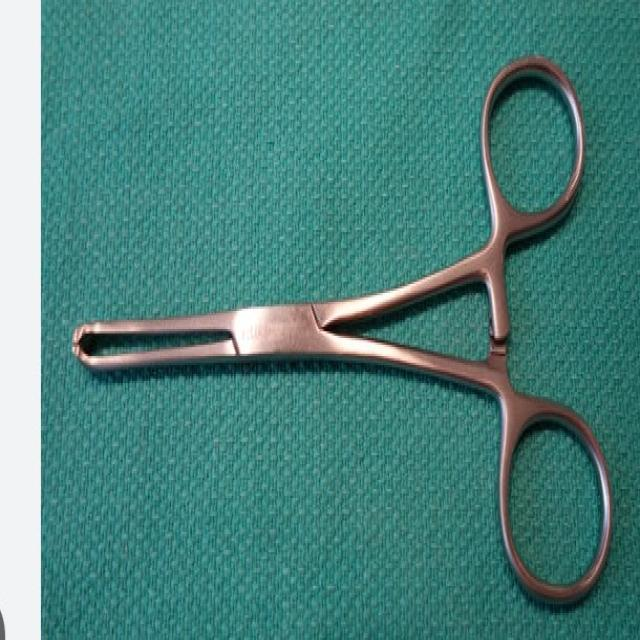Allis Forceps: (73, 50, 617, 622)
